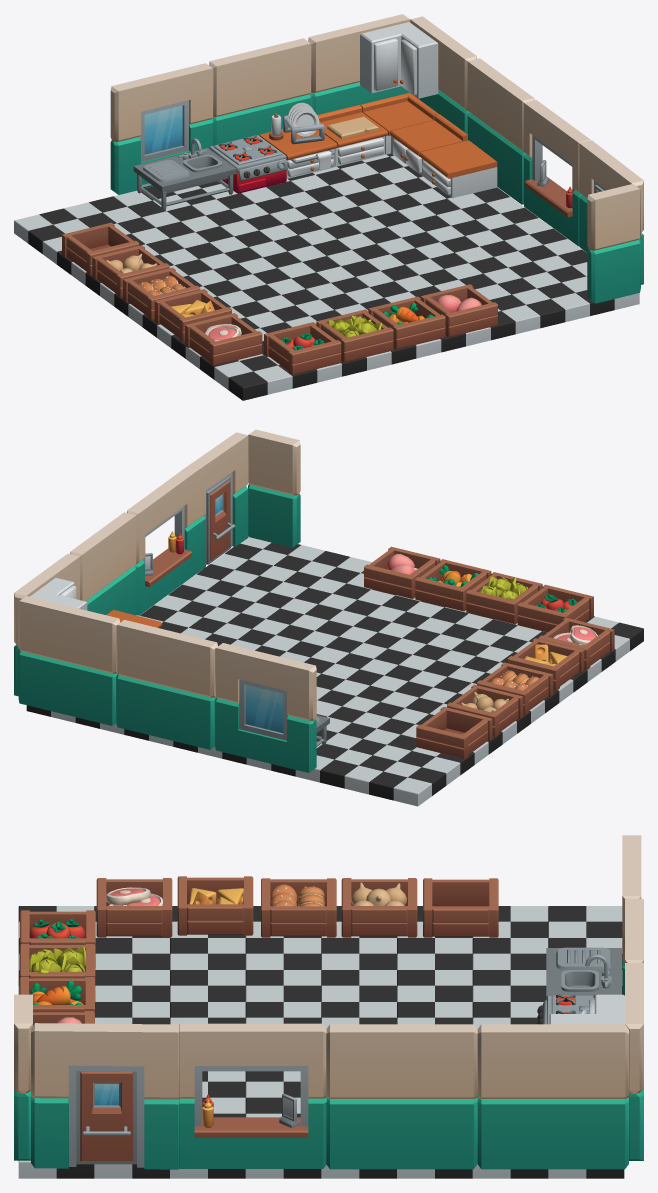
File: map_basic_ex.glb
3 renders of one model, top to bottom at view 1: azimuth 30°, elevation 25°; view 2: azimuth 150°, elevation 25°; view 3: azimuth 270°, elevation 25°, orthographic. The views are drawn at different scales.
Parts seen in each view (by area): view 1: floor_kitchen_small.001; view 2: floor_kitchen_small.001; view 3: floor_kitchen_small.001.
Part boxes in pixels (bbox=[...]): floor_kitchen_small.001: bbox=[14, 14, 643, 400]; floor_kitchen_small.001: bbox=[14, 429, 643, 806]; floor_kitchen_small.001: bbox=[14, 835, 643, 1178].
Size of the model in its own units: 16.7 by 4.51 by 16.65.
25 materials, 25 textured.
